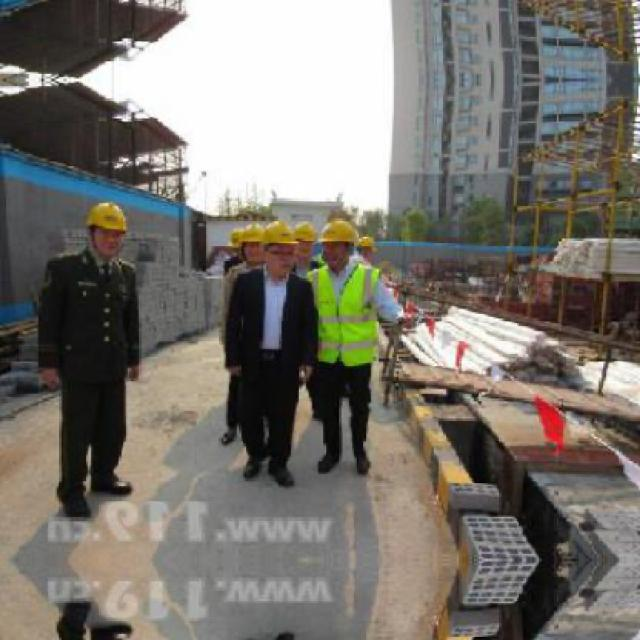con casco: (45, 220, 178, 316), (246, 226, 326, 298), (308, 224, 366, 272)
